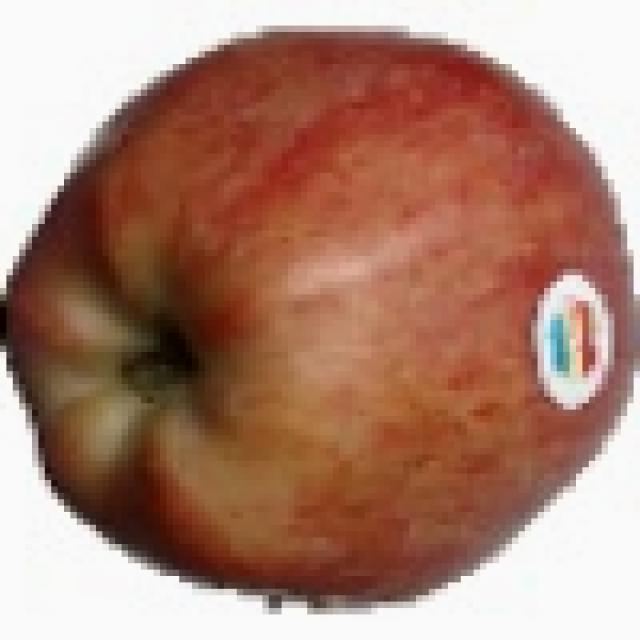apple: (6, 21, 634, 618)
